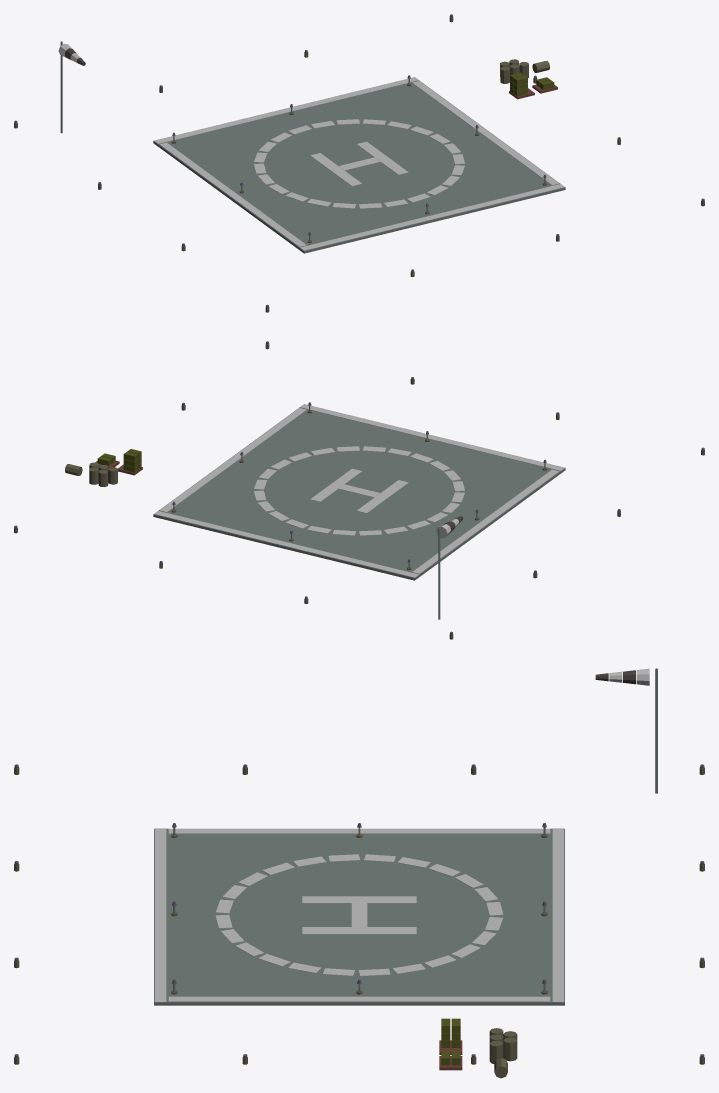
The model's file is SM_Helipuerto_v0_LOD0.fbx.
The picture shows the model from 3 angles, top to bottom: view 1: azimuth 30°, elevation 25°; view 2: azimuth 150°, elevation 25°; view 3: azimuth 270°, elevation 25°; orthographic projection. The views are drawn at different scales.
Visible parts, largest first — view 1: SM_bloques.helipuerto_v0_LOD0; view 2: SM_bloques.helipuerto_v0_LOD0; view 3: SM_bloques.helipuerto_v0_LOD0.
Part boxes in pixels (<box>): SM_bloques.helipuerto_v0_LOD0: <box>14,16,704,312</box>; SM_bloques.helipuerto_v0_LOD0: <box>14,343,704,639</box>; SM_bloques.helipuerto_v0_LOD0: <box>14,668,704,1078</box>.
Bounding box in the file's own units: 31.66 × 6 × 30.24.
